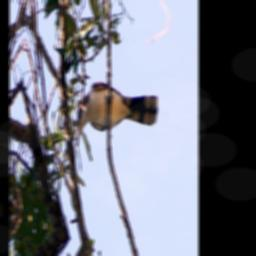Cuckoo: (74, 54, 161, 184)
